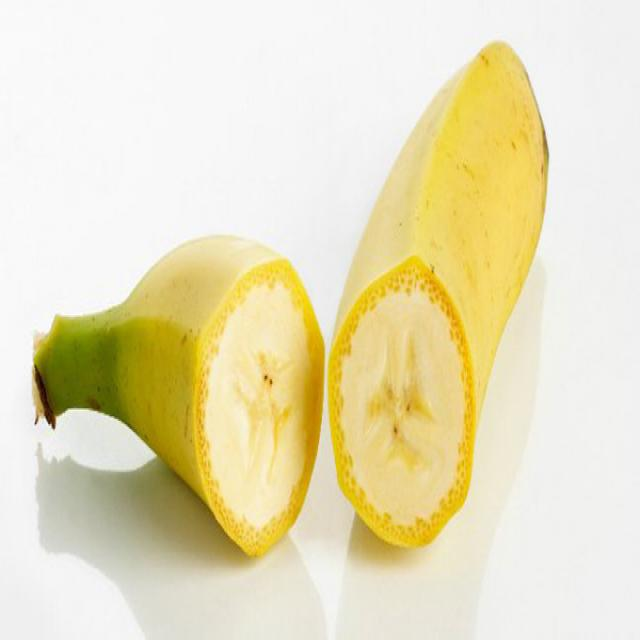banana: (329, 39, 548, 548), (33, 232, 328, 557)
